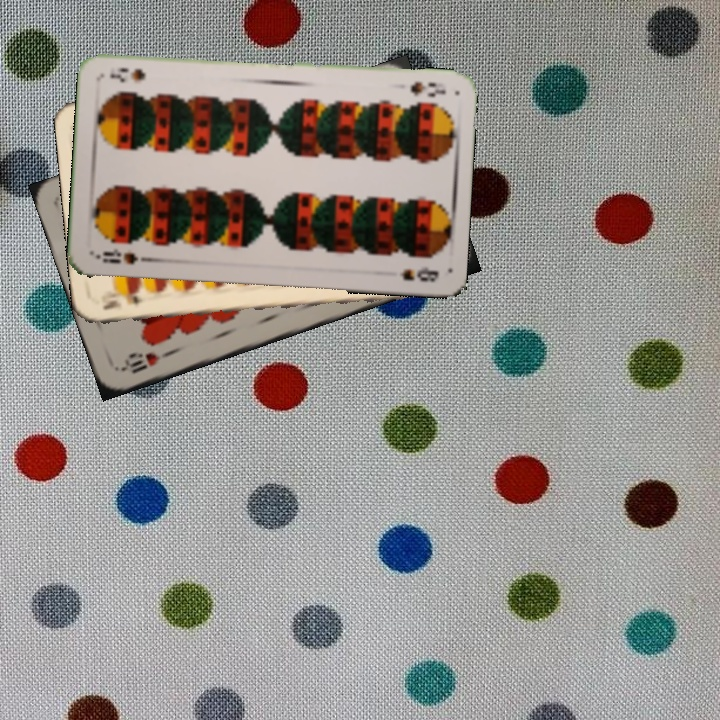E10: (99, 291, 146, 312)
H10: (118, 345, 176, 377)
S8: (92, 244, 151, 267), (407, 77, 448, 99)
